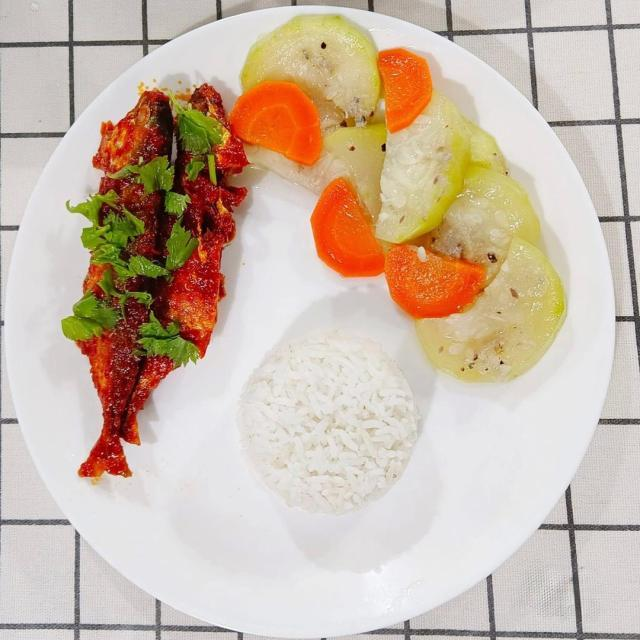Fish: (70, 83, 249, 477)
Plate: (5, 7, 614, 637)
Rice: (240, 333, 421, 517)
Vegetables: (227, 12, 570, 380)
